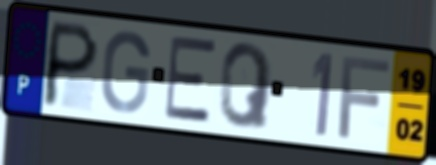1: (310, 51, 335, 139)
E: (162, 35, 218, 126)
F: (336, 54, 393, 141)
G: (99, 28, 153, 115)
P: (38, 18, 102, 111)
Q: (218, 40, 275, 132)
